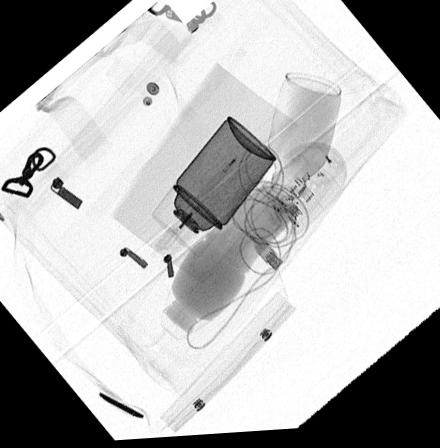Sprayer: (151, 119, 276, 260)
